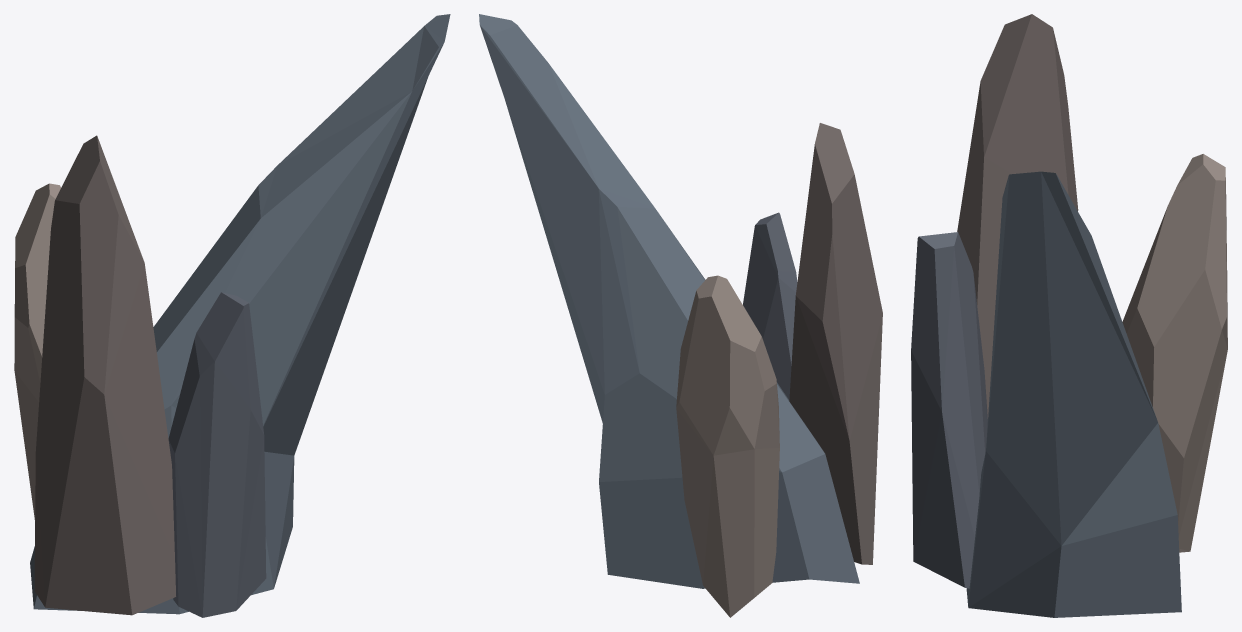
The model's file is Rocks_Sharp_l_04.fbx.
3 renders of one model, left to right at view 1: azimuth 30°, elevation 25°; view 2: azimuth 150°, elevation 25°; view 3: azimuth 270°, elevation 25°, orthographic. The views are drawn at different scales.
Parts seen in each view (by area): view 1: Rocks_Sharp_l_04; view 2: Rocks_Sharp_l_04; view 3: Rocks_Sharp_l_04.
Boxes of the visible parts, <box> form: Rocks_Sharp_l_04: <box>14,14,450,617</box>; Rocks_Sharp_l_04: <box>479,14,882,617</box>; Rocks_Sharp_l_04: <box>911,14,1227,617</box>.
Size of the model in its own units: 3.87 by 4.58 by 2.35.
